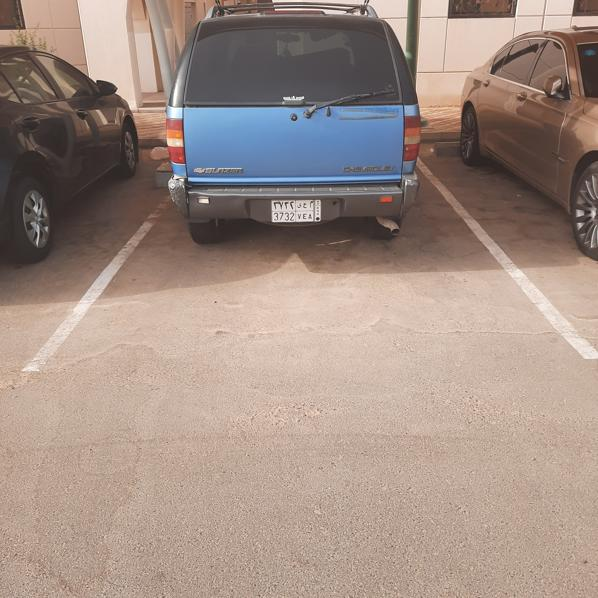numberplate: (271, 200, 321, 222)
